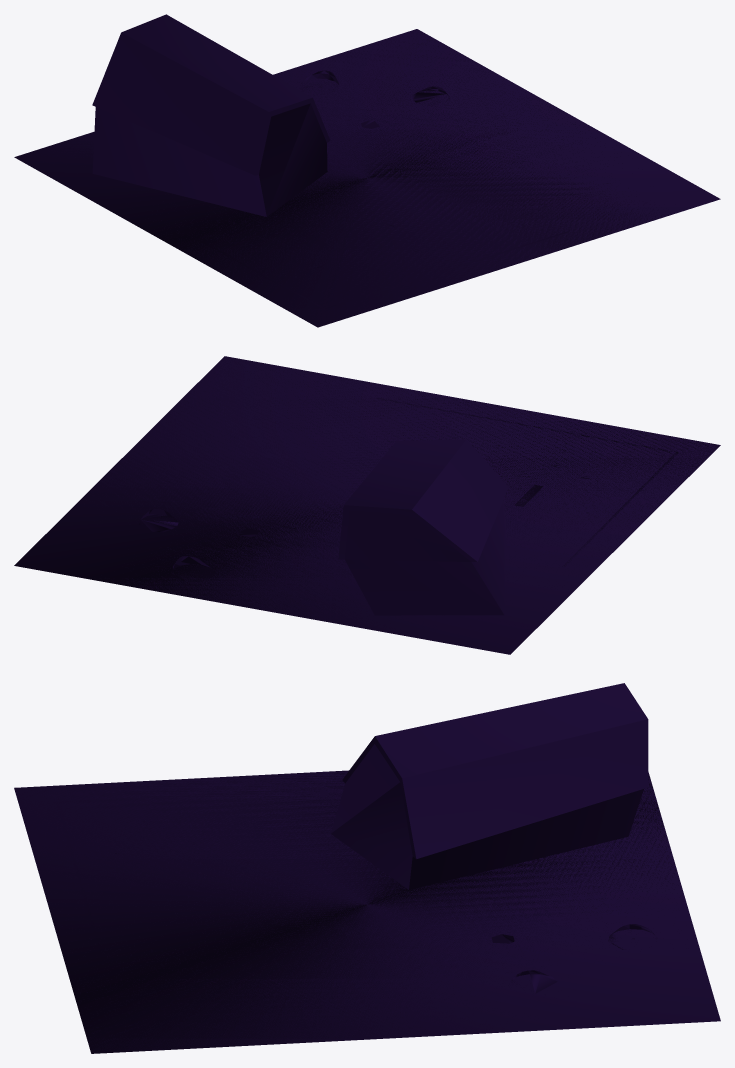
Rendered from barn_oozed.FBX.
The picture shows the model from 3 angles, top to bottom: view 1: azimuth 30°, elevation 25°; view 2: azimuth 150°, elevation 25°; view 3: azimuth 270°, elevation 25°; orthographic projection. The views are drawn at different scales.
Visible parts, largest first — view 1: Layer:pasture, Layer:white, Layer:barn, Layer:wood, Layer:greenery; view 2: Layer:pasture, Layer:barn, Layer:white, Layer:greenery, Layer:wood; view 3: Layer:pasture, Layer:white, Layer:barn, Layer:greenery.
Part boxes in pixels (left/top/right/bottom): Layer:pasture: left=14, top=29, right=720, bottom=327; Layer:white: left=92, top=14, right=330, bottom=175; Layer:barn: left=92, top=103, right=327, bottom=216; Layer:wood: left=157, top=86, right=568, bottom=309; Layer:greenery: left=299, top=70, right=449, bottom=128; Layer:pasture: left=14, top=356, right=720, bottom=654; Layer:barn: left=345, top=500, right=506, bottom=615; Layer:white: left=338, top=439, right=508, bottom=561; Layer:greenery: left=139, top=509, right=258, bottom=581; Layer:wood: left=161, top=398, right=678, bottom=572; Layer:pasture: left=14, top=770, right=720, bottom=1053; Layer:white: left=342, top=683, right=648, bottom=858; Layer:barn: left=331, top=744, right=643, bottom=889; Layer:greenery: left=491, top=924, right=655, bottom=993.
Bounding box in the file's own units: 282 × 58.64 × 282.
